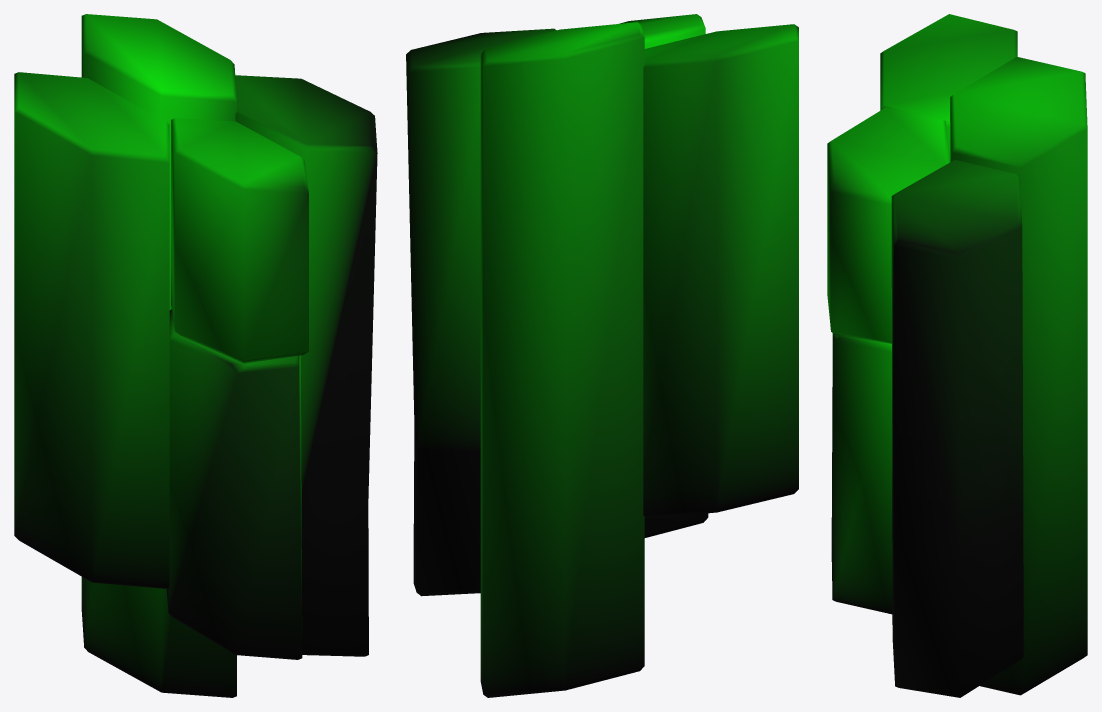
File: SM_RockHexic_RockSlanted03.fbx
3 views of the same model, side by side, from view 1: azimuth 30°, elevation 25°; view 2: azimuth 150°, elevation 25°; view 3: azimuth 270°, elevation 25° (orthographic). The views are drawn at different scales.
Parts seen in each view (by area): view 1: SM_RockHexic_RockSlanted03; view 2: SM_RockHexic_RockSlanted03; view 3: SM_RockHexic_RockSlanted03.
Boxes of the visible parts, left/top/right/bottom form: SM_RockHexic_RockSlanted03: left=14, top=14, right=377, bottom=697; SM_RockHexic_RockSlanted03: left=406, top=14, right=798, bottom=697; SM_RockHexic_RockSlanted03: left=827, top=14, right=1087, bottom=697.
Size of the model in its own units: 982 by 682 by 1668.
